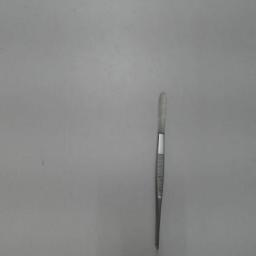Gillies Toothed Dissector: (151, 88, 171, 254)
